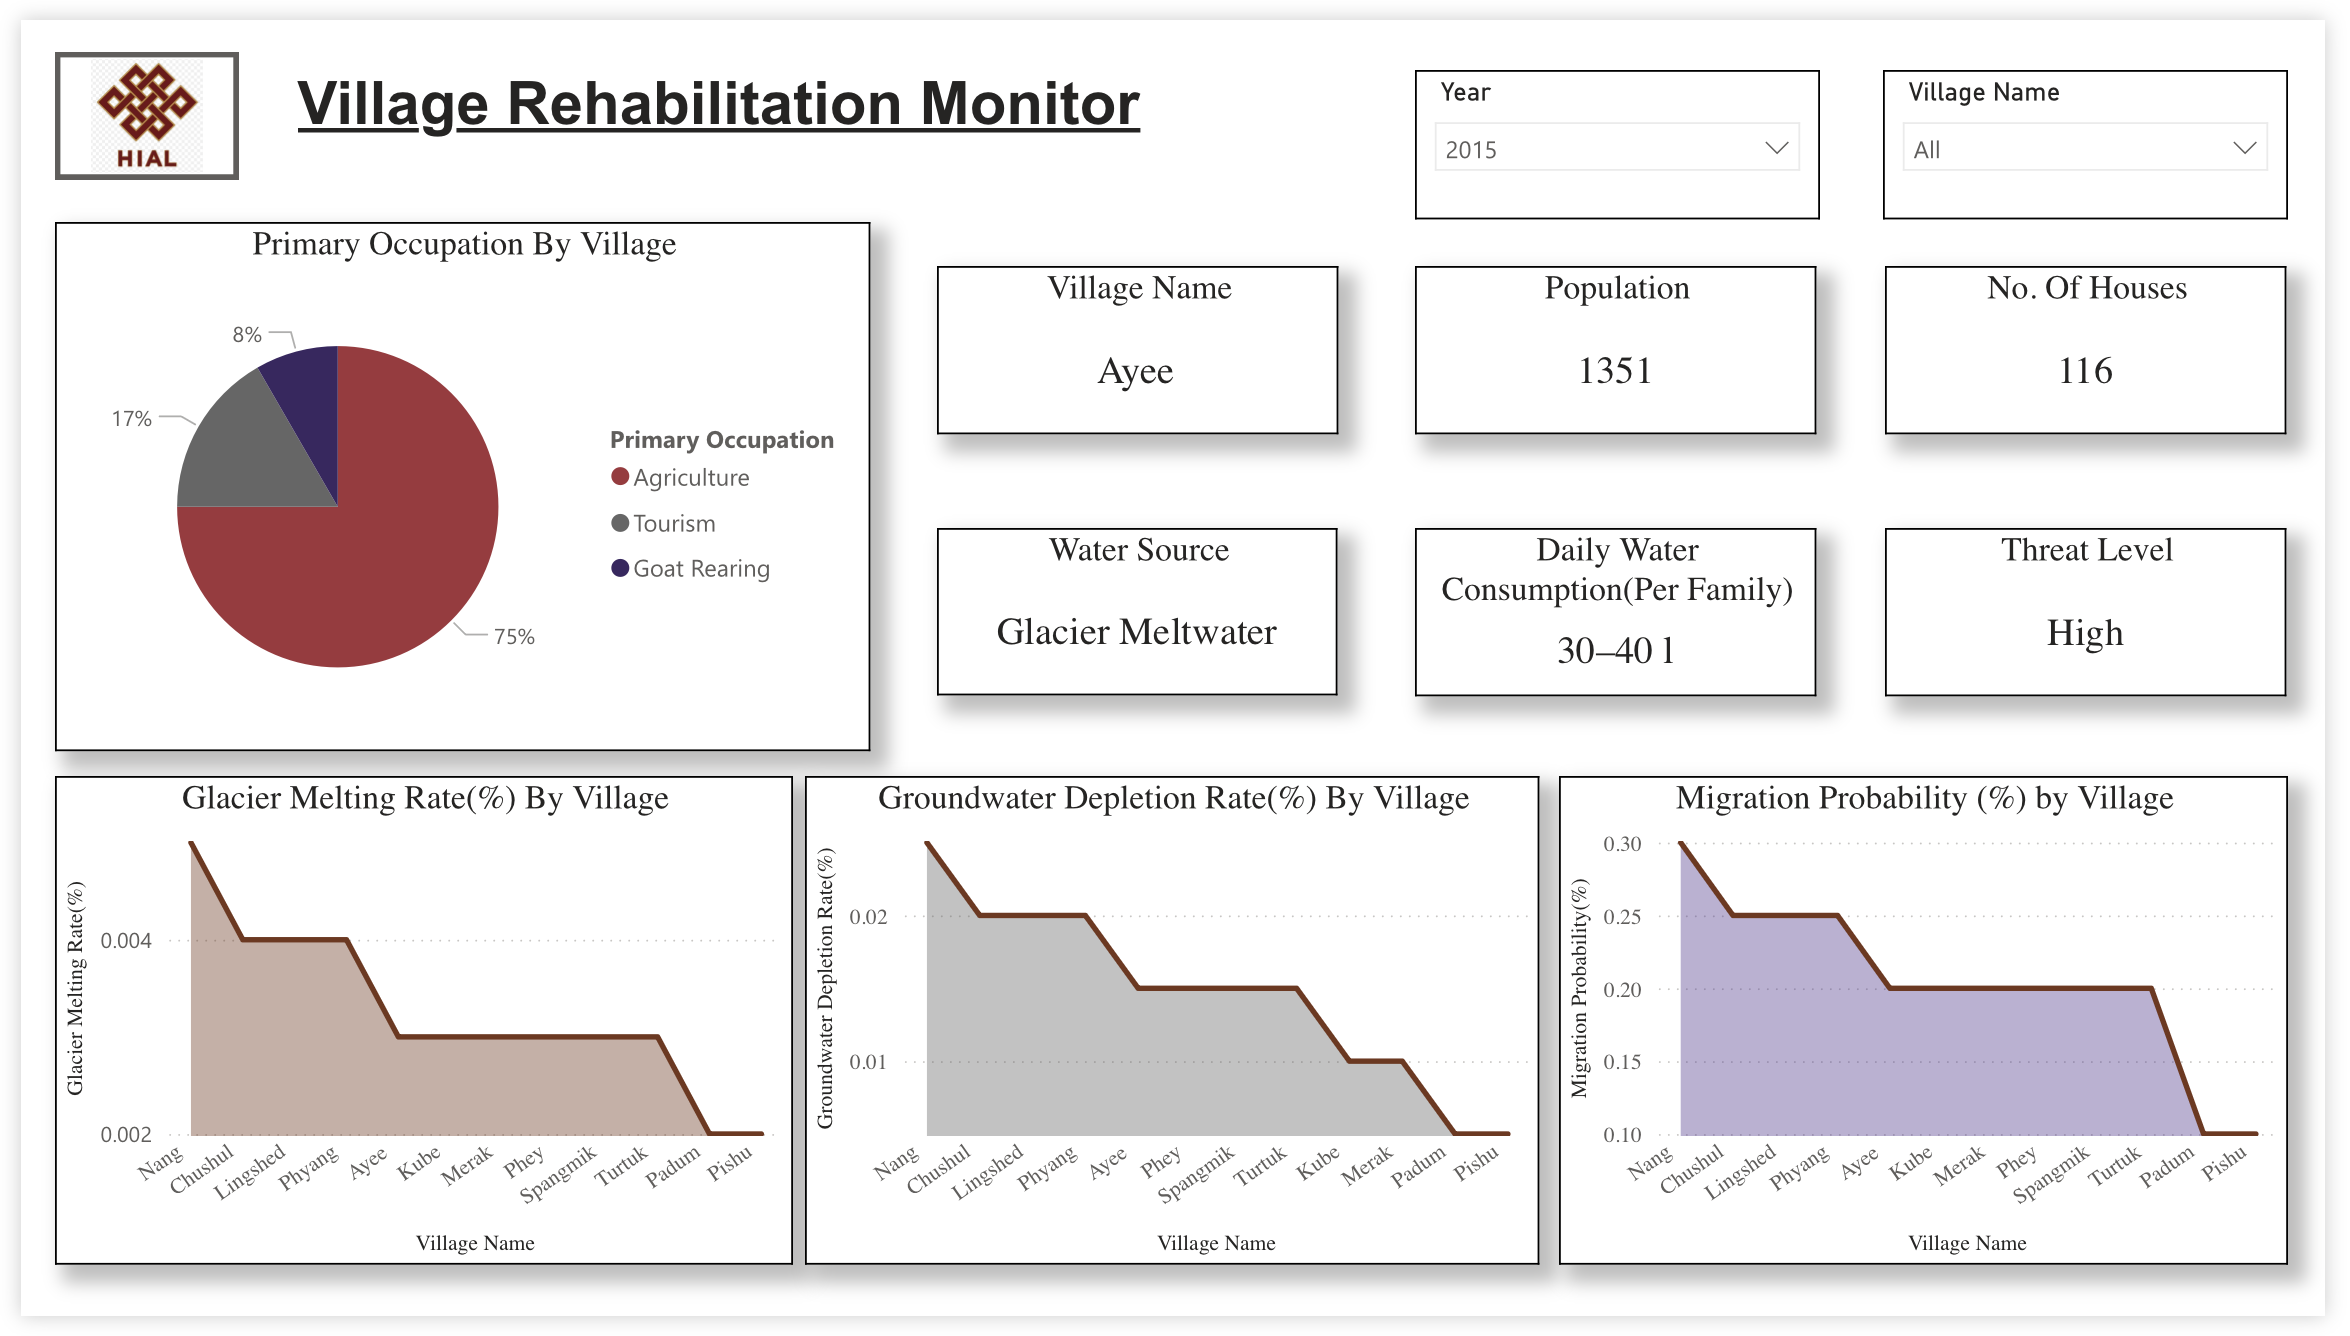

What the dashboard file says about the page in this screenshot:
{"tool":"powerbi","page":{"name":"Village Rehabilitation Dashboard","canvas":[1280,720],"ordinal":0},"visuals":[{"type":"card","title":"Village Name","fields":{"Values":["Min(Dataset.Village Name)"]},"box":[508.5,136.6,223.1,93.4],"z":0},{"type":"card","title":"No. Of Houses","fields":{"Values":["Min(Dataset.Number of Houses)"]},"box":[1036.1,136.6,223.1,93.4],"z":1000},{"type":"card","title":"Population","fields":{"Values":["Min(Dataset.Population)"]},"box":[774.9,136.6,223.1,93.4],"z":2000},{"type":"card","title":"Daily Water Consumption(Per Family)","fields":{"Values":["Min(Dataset.Daily Water Consumption per Family)"]},"box":[774.9,281.9,223.1,93.4],"z":3000},{"type":"card","title":"Water Source","fields":{"Values":["Min(Dataset.Water Source )"]},"box":[508.9,281.9,222.7,93],"z":4000},{"type":"pieChart","title":"Primary Occupation By Village","fields":{"Category":["Dataset.Primary Occupation"],"Y":["CountNonNull(Dataset.Village Name)"]},"box":[19,112.4,453.2,294.1],"z":5000},{"type":"lineChart","title":"Glacier Melting Rate(%) By Village","fields":{"Category":["Dataset.Village Name"],"Y":["Sum(Dataset.Glacier Melting Rate (%))"]},"box":[19,420.3,409.9,271.6],"z":6000},{"type":"lineChart","title":"Groundwater Depletion Rate(%) By Village","fields":{"Category":["Dataset.Village Name"],"Y":["Sum(Dataset.Groundwater Depletion Rate (%))"]},"box":[435.9,420.3,408.2,271.6],"z":7000},{"type":"lineChart","title":"Migration Probability (%) by Village","fields":{"Category":["Dataset.Village Name"],"Y":["Sum(Dataset.Migration Probability (%))"]},"box":[854.5,420.3,404.8,271.6],"z":8000},{"type":"slicer","fields":{"Values":["Dataset.Year"]},"box":[774.9,27.7,224.9,83],"z":9000},{"type":"slicer","fields":{"Values":["Dataset.Village Name"]},"box":[1034.4,27.7,224.9,83],"z":10000},{"type":"card","title":"Threat Level","fields":{"Values":["Min(Dataset.Threat Level )"]},"box":[1036.1,281.9,223.1,93.4],"z":11000},{"type":"actionButton","box":[19,17.3,102.1,70.9],"z":12000},{"type":"card","title":"Village Rehabilitation Monitor ","fields":{"Values":["Min(Dataset.Village Name)"]},"box":[121.1,27.7,532.8,50.2],"z":13000}]}

Visuals, with their boxes in screenshot pixels (x1, y1, x2, y2), scaled from the page's 1280x720 canvas onto the 2350x1336 screenshot:
"Village Name" card: box(934, 253, 1343, 427)
"No. Of Houses" card: box(1902, 253, 2312, 427)
"Population" card: box(1423, 253, 1832, 427)
"Daily Water Consumption(Per Family)" card: box(1423, 523, 1832, 696)
"Water Source" card: box(934, 523, 1343, 696)
"Primary Occupation By Village" pieChart: box(35, 209, 867, 754)
"Glacier Melting Rate(%) By Village" lineChart: box(35, 780, 787, 1284)
"Groundwater Depletion Rate(%) By Village" lineChart: box(800, 780, 1550, 1284)
"Migration Probability (%) by Village" lineChart: box(1569, 780, 2312, 1284)
slicer - Dataset.Year: box(1423, 51, 1836, 205)
slicer - Dataset.Village Name: box(1899, 51, 2312, 205)
"Threat Level" card: box(1902, 523, 2312, 696)
actionButton: box(35, 32, 222, 164)
"Village Rehabilitation Monitor " card: box(222, 51, 1201, 145)
